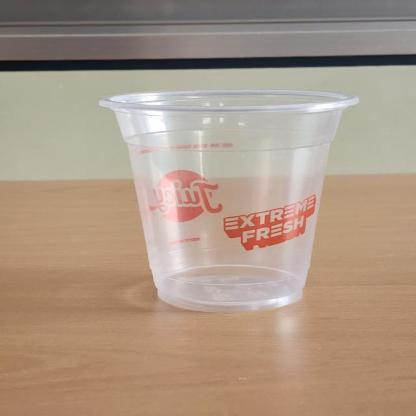Plastic Cup: (98, 87, 362, 315)
